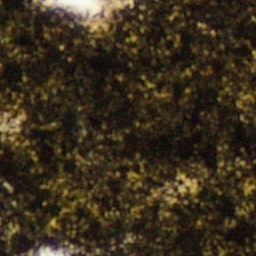cement_matrix: (0, 0, 255, 255), (182, 180, 194, 190)
gravel_crushed_stones: (38, 0, 132, 29), (33, 247, 73, 255), (0, 118, 17, 130), (183, 181, 193, 189)
